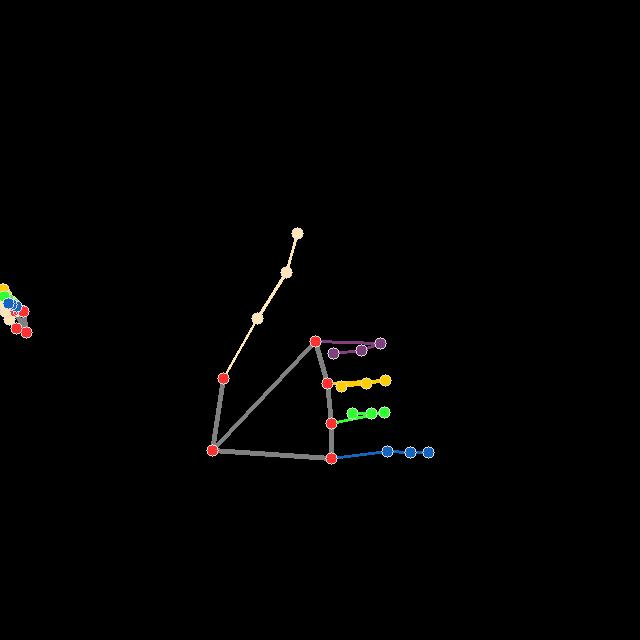skr: (204, 225, 436, 465)
